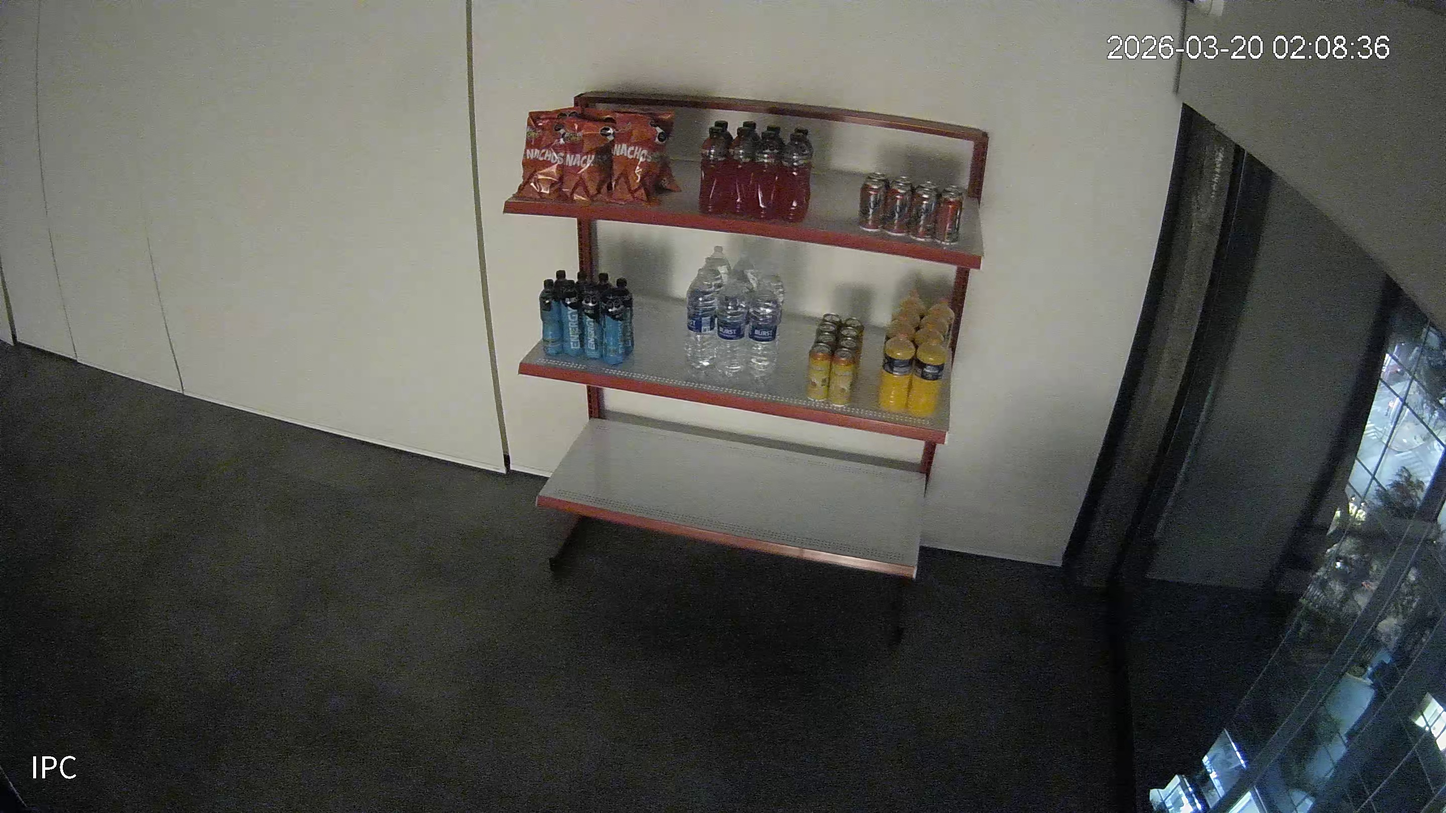agua_burst: (746, 278, 781, 374), (685, 270, 717, 370), (715, 277, 746, 373)
burst_energetica_roja: (777, 133, 811, 221), (751, 131, 782, 218), (697, 127, 727, 213)
burst_energy: (539, 282, 563, 354), (602, 289, 624, 364), (581, 286, 601, 359)
nachos_naturasol: (608, 114, 669, 204), (561, 118, 613, 203), (513, 116, 563, 199)
nebraska_mango: (828, 349, 855, 406), (806, 344, 831, 401), (836, 338, 858, 363)
sisi_cola: (909, 189, 939, 241), (858, 181, 887, 231), (889, 176, 914, 189)
sun_paradise_naranja: (907, 334, 947, 416), (877, 332, 915, 410), (911, 321, 945, 348)
